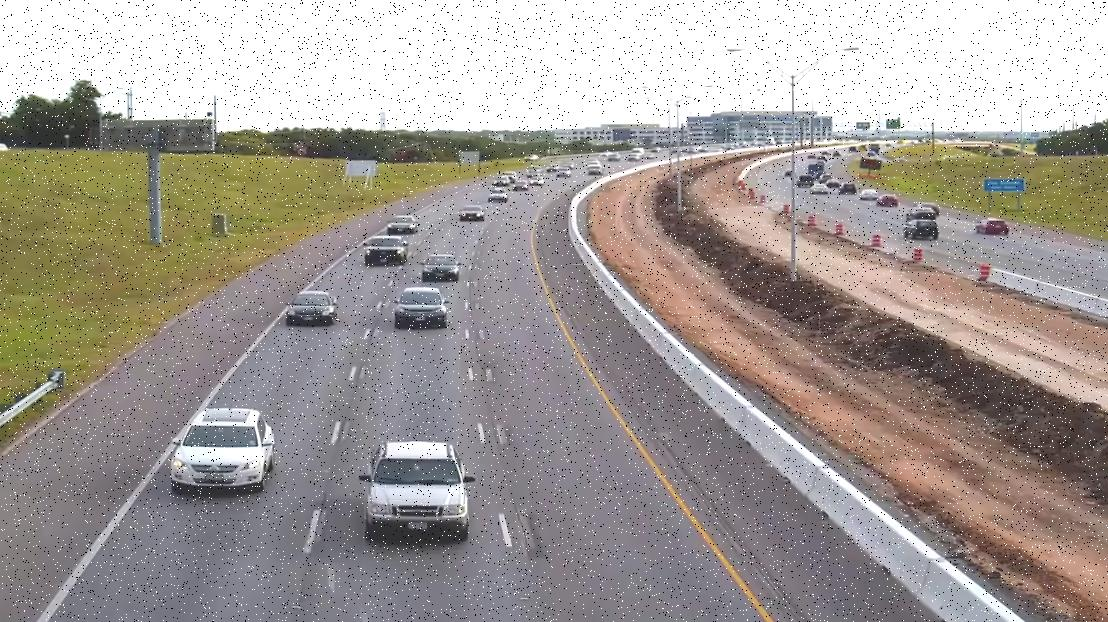car: (358, 440, 475, 537), (170, 409, 273, 494), (391, 288, 448, 329), (288, 293, 340, 326), (361, 236, 411, 266), (901, 210, 939, 242), (424, 255, 463, 282), (384, 216, 417, 235), (973, 220, 1008, 237), (459, 206, 485, 221), (875, 194, 898, 208), (484, 192, 506, 203), (0, 143, 6, 153)
